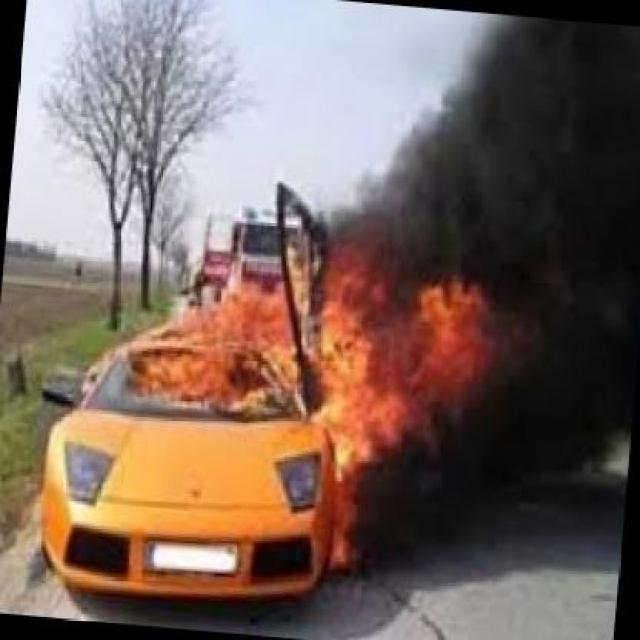Fire: (138, 268, 374, 430), (316, 251, 484, 461), (320, 435, 370, 567)
Smoke: (478, 1, 640, 277), (488, 283, 634, 481), (396, 84, 484, 283), (367, 459, 489, 574), (334, 174, 396, 244)
